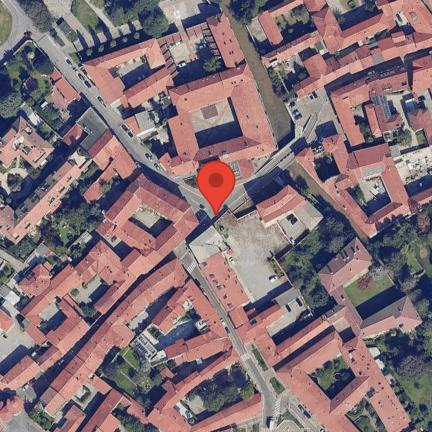area_open: (230, 207, 307, 306), (289, 93, 347, 148), (259, 389, 326, 432), (390, 129, 429, 197), (274, 41, 325, 91), (191, 101, 242, 147), (172, 30, 217, 80), (186, 176, 245, 213), (0, 325, 44, 371), (0, 163, 37, 206), (349, 177, 390, 214), (129, 204, 171, 237), (132, 294, 168, 332), (161, 312, 201, 345), (112, 56, 148, 88), (314, 143, 335, 183), (74, 278, 106, 304), (394, 87, 413, 119), (354, 105, 364, 116)
built: (1, 173, 201, 393), (81, 12, 279, 180), (291, 52, 432, 237), (189, 208, 351, 368), (28, 259, 189, 417), (256, 0, 432, 100), (105, 326, 261, 432), (276, 330, 411, 432), (0, 154, 93, 247), (60, 103, 141, 204), (133, 276, 228, 358), (334, 294, 424, 342), (317, 237, 375, 301), (256, 185, 323, 234), (0, 116, 56, 168), (82, 389, 124, 432), (46, 66, 76, 122), (0, 278, 21, 337), (50, 406, 87, 432), (70, 380, 97, 411), (0, 397, 21, 432)
vegetation_high: (362, 203, 432, 423), (278, 184, 349, 316), (189, 364, 259, 417), (46, 190, 103, 235)
vegetation_low: (16, 2, 219, 67), (222, 0, 298, 151), (0, 39, 55, 128), (98, 348, 164, 409), (348, 267, 401, 320), (396, 366, 432, 431), (8, 222, 72, 258), (405, 233, 430, 301), (326, 0, 379, 28), (33, 100, 65, 141), (273, 6, 311, 38), (71, 168, 99, 202), (98, 178, 128, 209), (358, 119, 377, 143), (390, 124, 413, 143), (8, 172, 23, 191)
